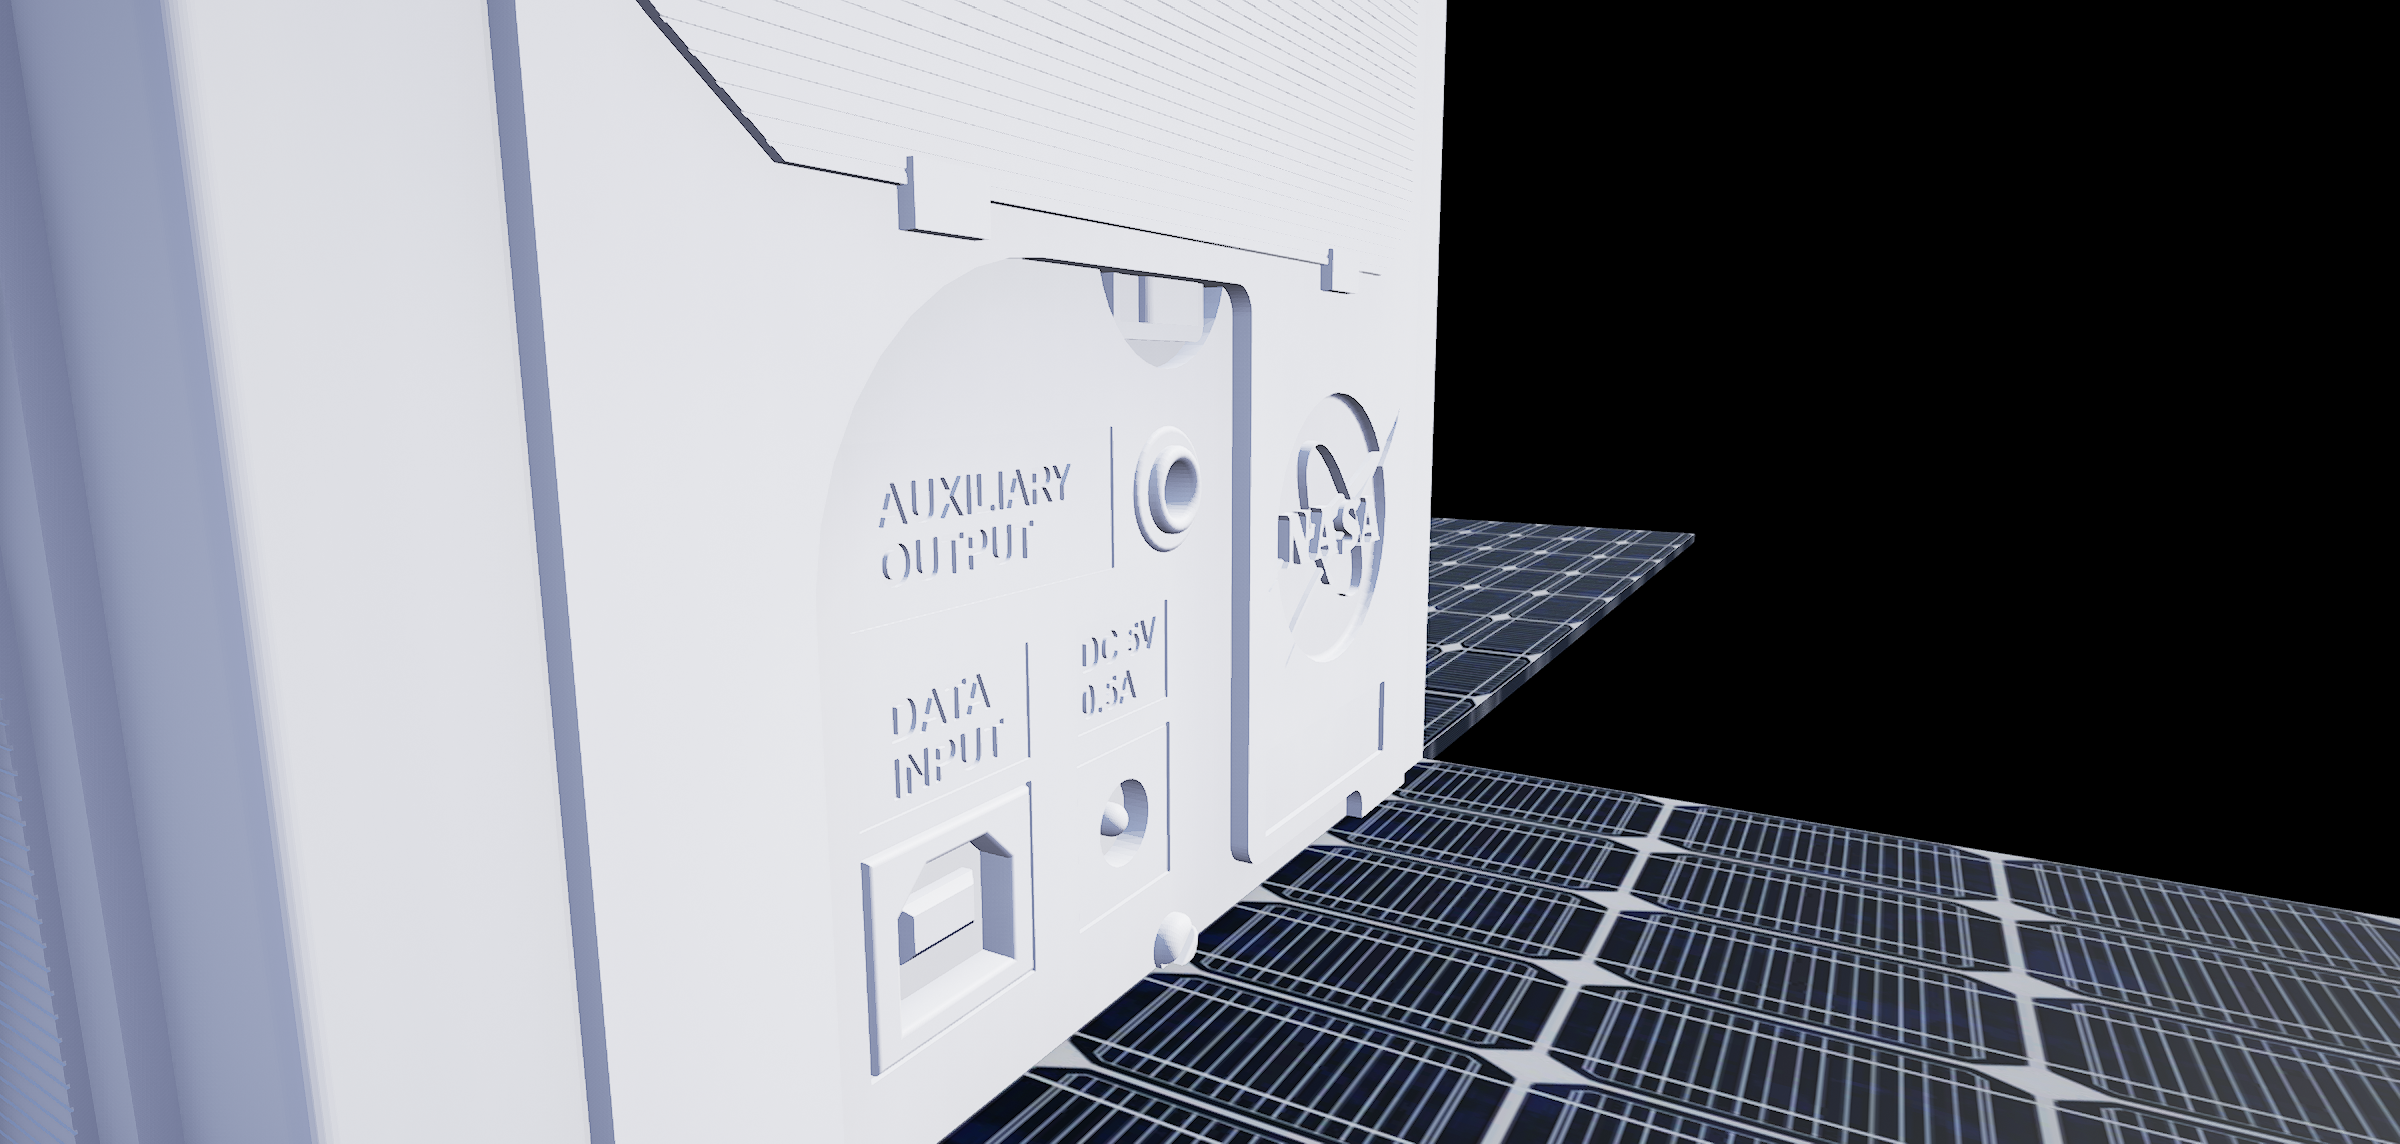aux: (1127, 417, 1215, 557)
dc: (1091, 773, 1160, 865)
usb: (888, 848, 1030, 1017)
